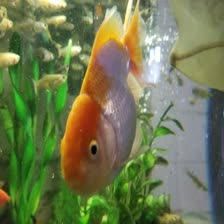Cuezo: (58, 2, 150, 198)
